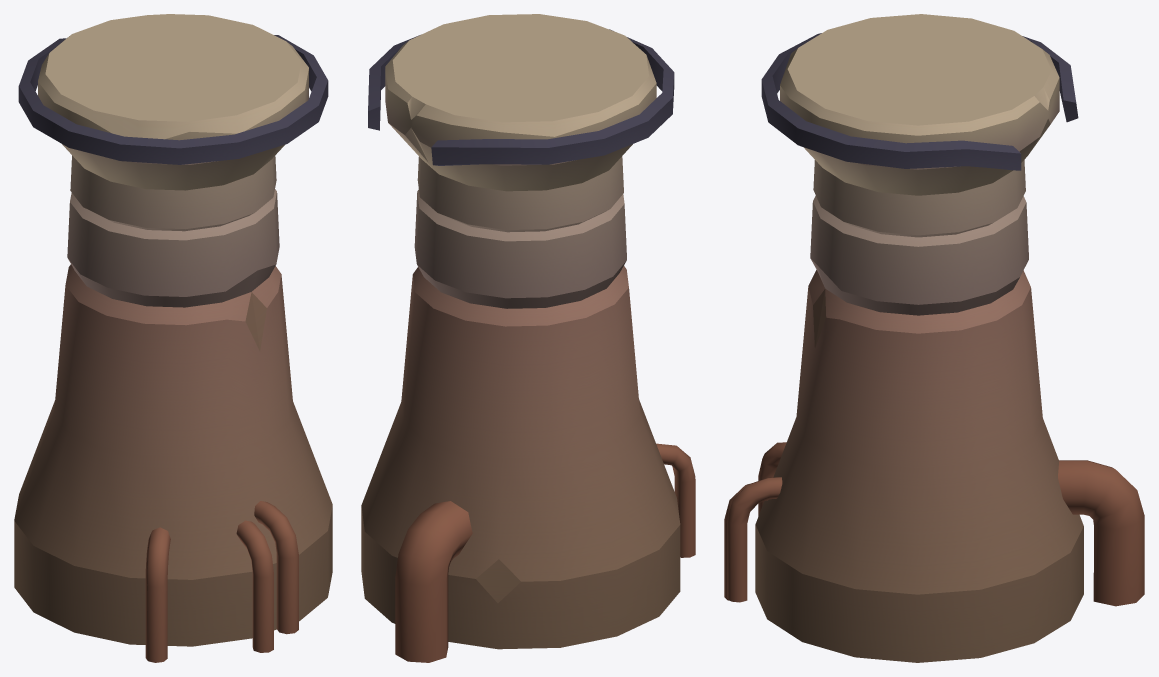
The model's file is WallCorner01.fbx.
3 views of the same model, side by side, from view 1: azimuth 30°, elevation 25°; view 2: azimuth 150°, elevation 25°; view 3: azimuth 270°, elevation 25° (orthographic). The views are drawn at different scales.
Visible parts, largest first — view 1: WallCorner; view 2: WallCorner; view 3: WallCorner.
Boxes of the visible parts, x1,y1,x2,y2 form: WallCorner: (14,14,332,662); WallCorner: (361,14,695,662); WallCorner: (724,14,1144,662).
Bounding box in the file's own units: 529 × 936 × 677.
